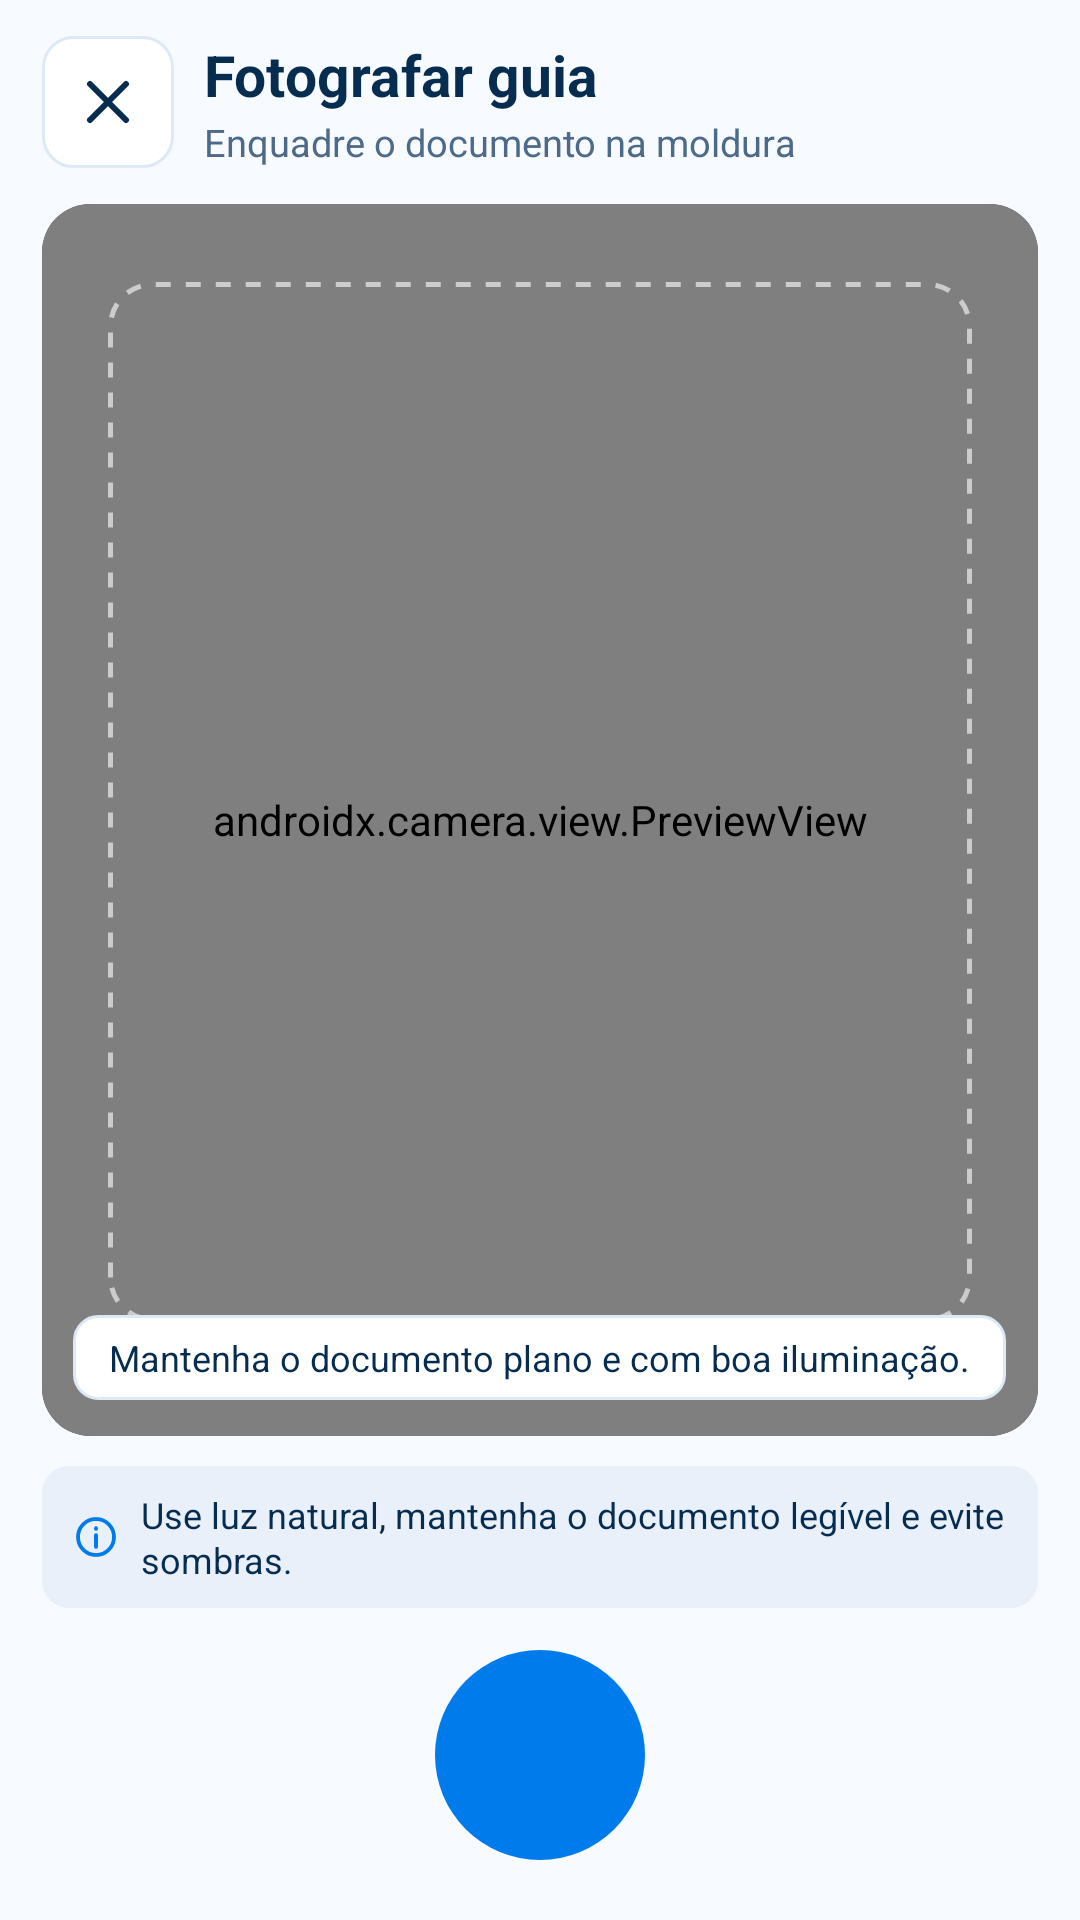

Where to tap for icons on this 1080 × 1920 app screen, as (x,y):
Fechar câmara: (108,102)
info: (96,1537)
